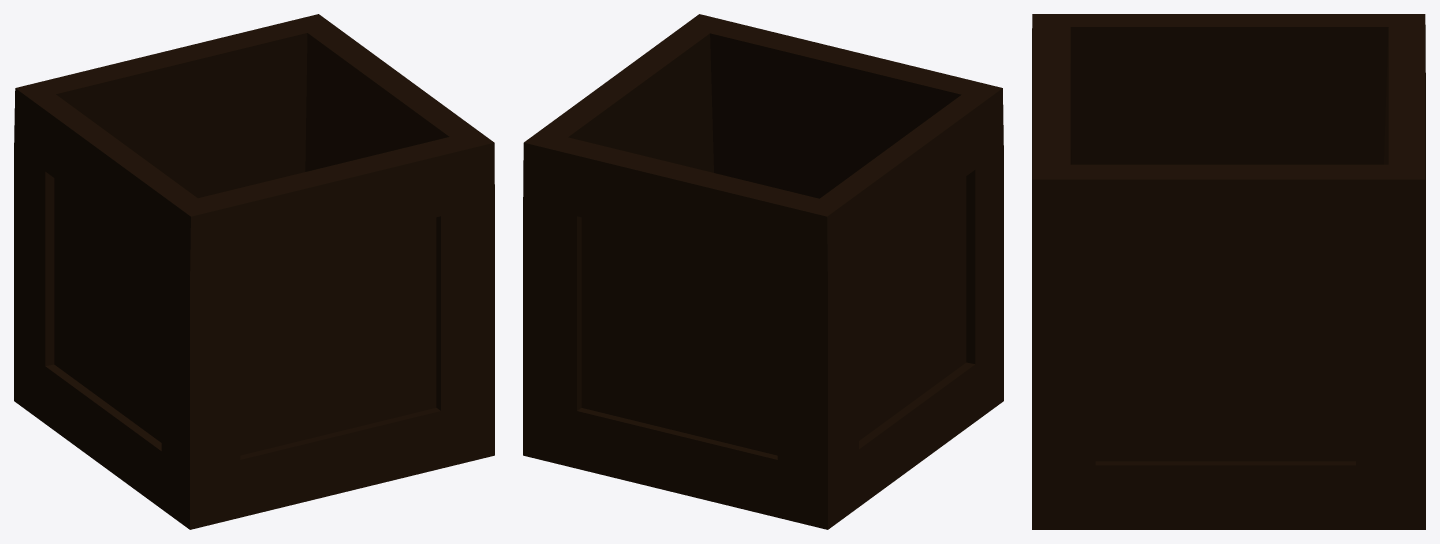
Rendered from OpenCrate.FBX.
3 renders of one model, left to right at view 1: azimuth 30°, elevation 25°; view 2: azimuth 150°, elevation 25°; view 3: azimuth 270°, elevation 25°, orthographic. The views are drawn at different scales.
Visible parts, largest first — view 1: Box001; view 2: Box001; view 3: Box001.
Part boxes in pixels (x1,y1,x2,y2): Box001: (14,14,494,529); Box001: (523,14,1003,529); Box001: (1032,14,1425,529).
Size of the model in its own units: 26.89 by 26.38 by 26.89.
